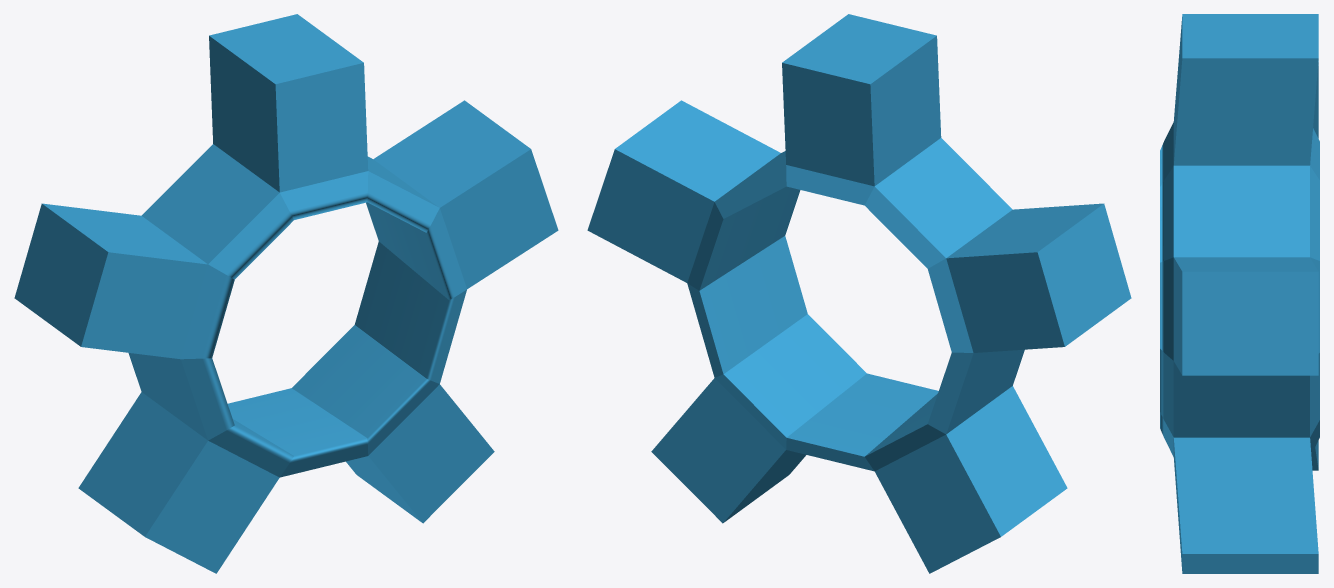
The model's file is Gear_Diam_02_Size_1.fbx.
3 views of the same model, side by side, from view 1: azimuth 30°, elevation 25°; view 2: azimuth 150°, elevation 25°; view 3: azimuth 270°, elevation 25° (orthographic). The views are drawn at different scales.
Parts seen in each view (by area): view 1: Gear_Diam_02_Size_1; view 2: Gear_Diam_02_Size_1; view 3: Gear_Diam_02_Size_1.
Part boxes in pixels (box(x1,y1,x2,y2)): Gear_Diam_02_Size_1: box(14, 14, 558, 573); Gear_Diam_02_Size_1: box(587, 14, 1131, 573); Gear_Diam_02_Size_1: box(1160, 14, 1319, 573).
Bounding box in the file's own units: 8.87 × 8.44 × 2.51.
